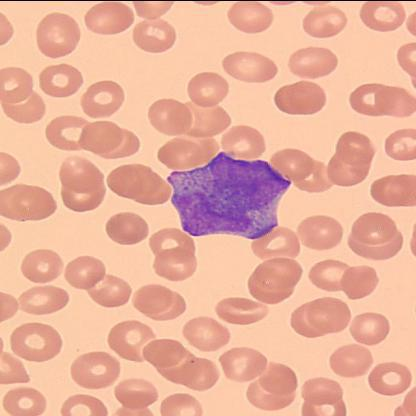Promyelocyte: (166, 152, 290, 240)
